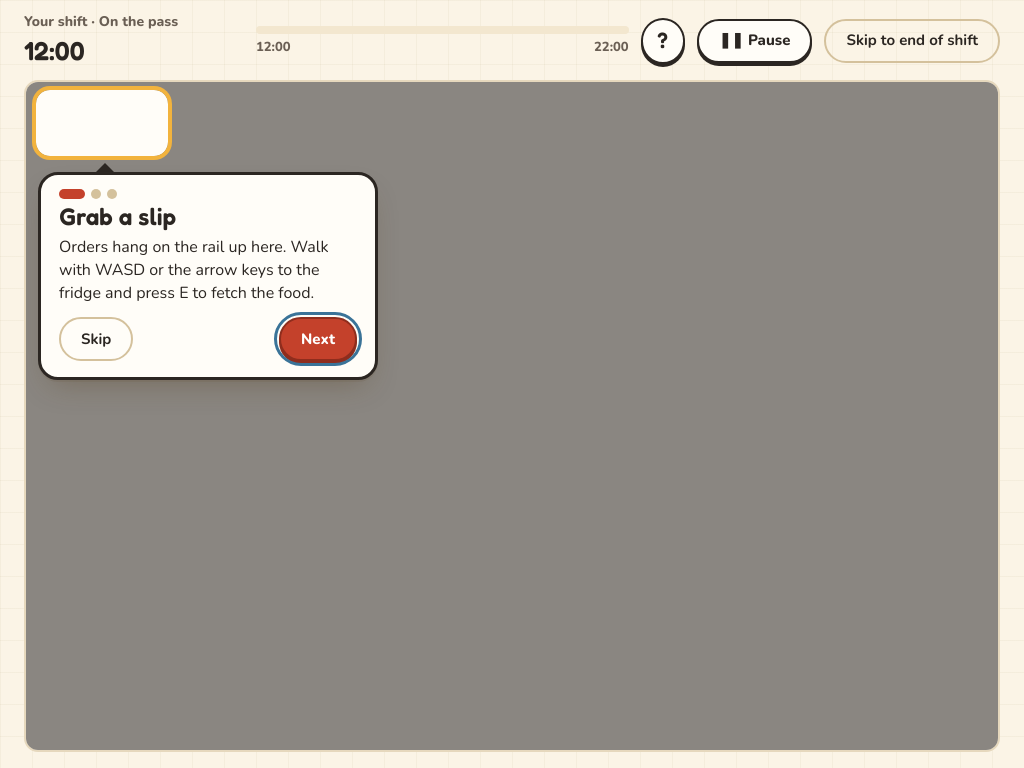
Test case: HandsOnShift: the onboarding overlay › shows on the first shift of a save, pages through its steps, and doesn't come back once finished
The image size is (1024, 768).
Expected: the dialog "Grab a slip" is shown, top-left (36, 90), bottom-right (378, 380)
Expected: the element named "Step 1 of 3" is shown, top-left (59, 189), bottom-right (117, 199)
Click the button "Next".
click(318, 339)  # box top-left (279, 317), bottom-right (357, 361)
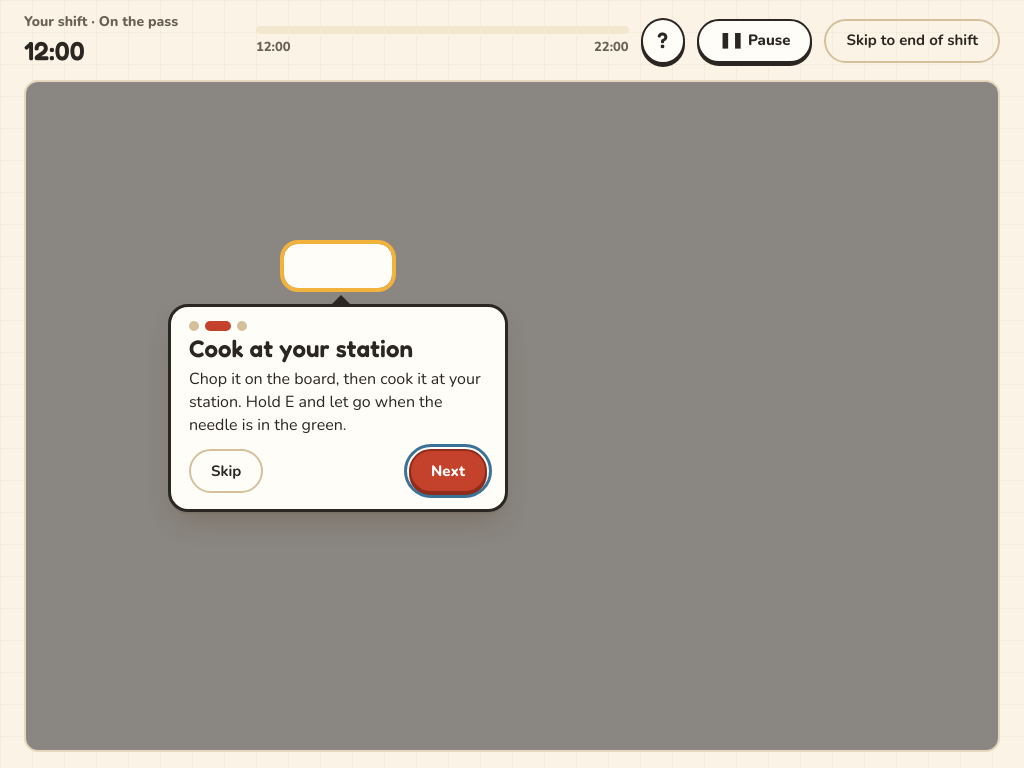
Now the dialog is shown, box top-left (168, 244), bottom-right (508, 512)
Click the button "Next".
click(448, 471)  # box top-left (409, 449), bottom-right (487, 493)
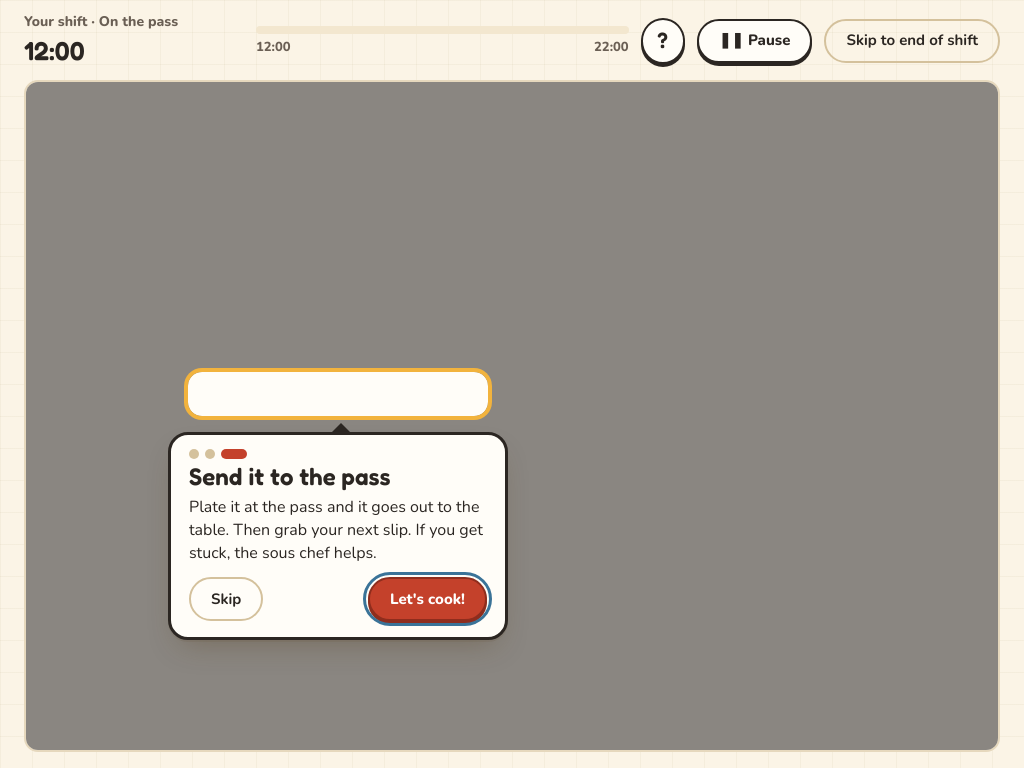
Click the button "Let's cook!".
click(427, 599)  # box top-left (368, 577), bottom-right (487, 621)
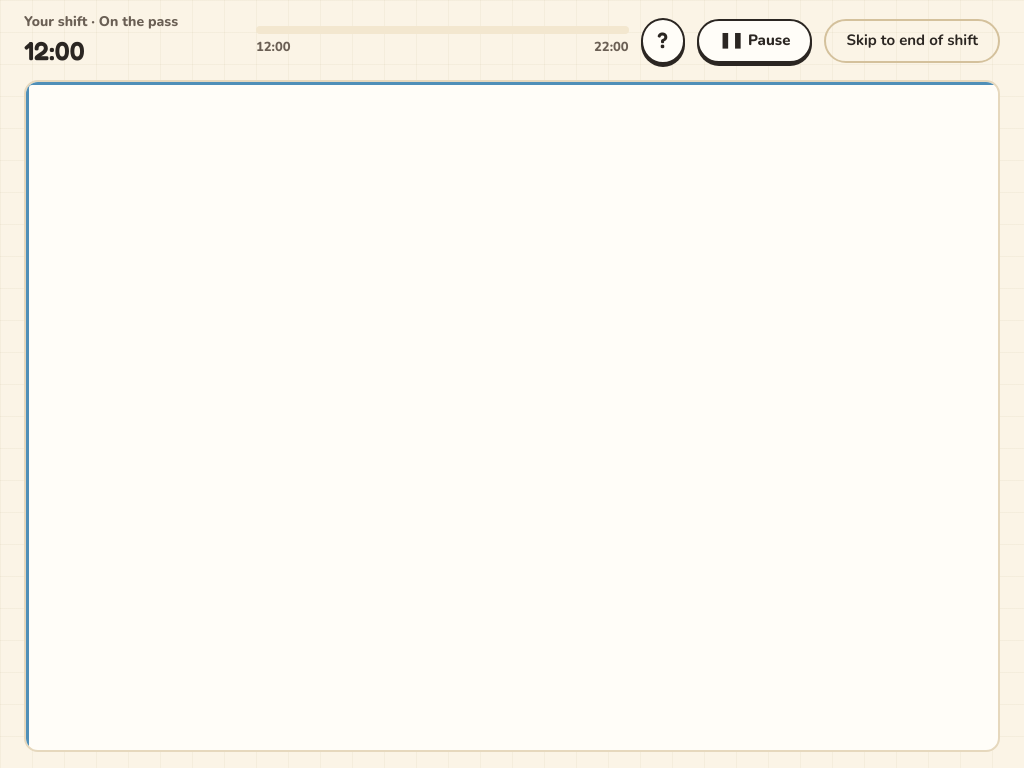
Now the dialog is gone
